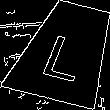L_N: (38, 23, 94, 81)
